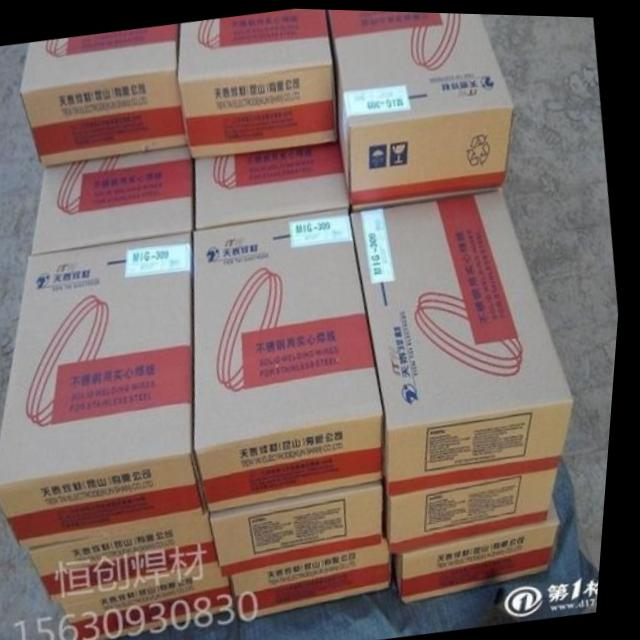box: (353, 187, 581, 491), (0, 231, 213, 549), (197, 205, 393, 510), (328, 8, 518, 205), (20, 23, 190, 168), (179, 7, 337, 158), (403, 492, 569, 602), (37, 513, 228, 606), (36, 146, 197, 255), (217, 479, 393, 575), (394, 465, 563, 551), (196, 141, 353, 228), (68, 566, 245, 640), (239, 542, 401, 617)
